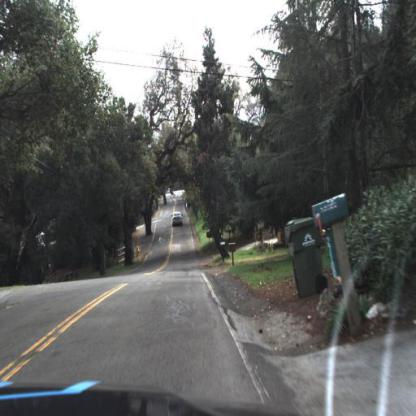car: (169, 197, 186, 217)
